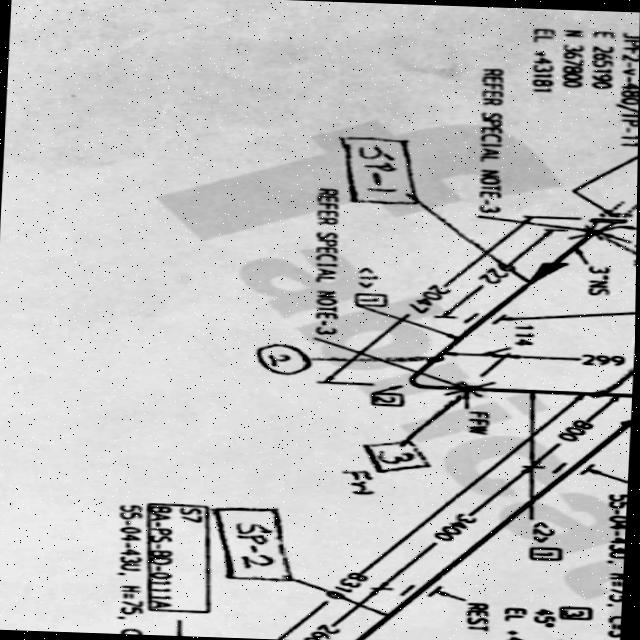Item number: (143, 501, 222, 615), (366, 381, 408, 407), (352, 290, 392, 309), (527, 544, 568, 562), (559, 604, 595, 620)
Measrement: (270, 387, 624, 638), (326, 222, 539, 377), (368, 463, 540, 589), (426, 227, 574, 318), (523, 394, 628, 469), (299, 585, 400, 640), (441, 321, 553, 358), (497, 350, 635, 369), (582, 262, 615, 296)
Pipeline: (344, 410, 631, 640), (397, 233, 632, 401)
Symbol: (401, 348, 490, 397), (504, 254, 579, 287), (578, 203, 638, 243)
Weld number: (253, 340, 317, 376)
other: (522, 24, 640, 150), (111, 501, 209, 635), (294, 185, 346, 337), (468, 65, 512, 215), (601, 486, 628, 640), (499, 604, 572, 640), (337, 467, 384, 498), (464, 600, 496, 633)
